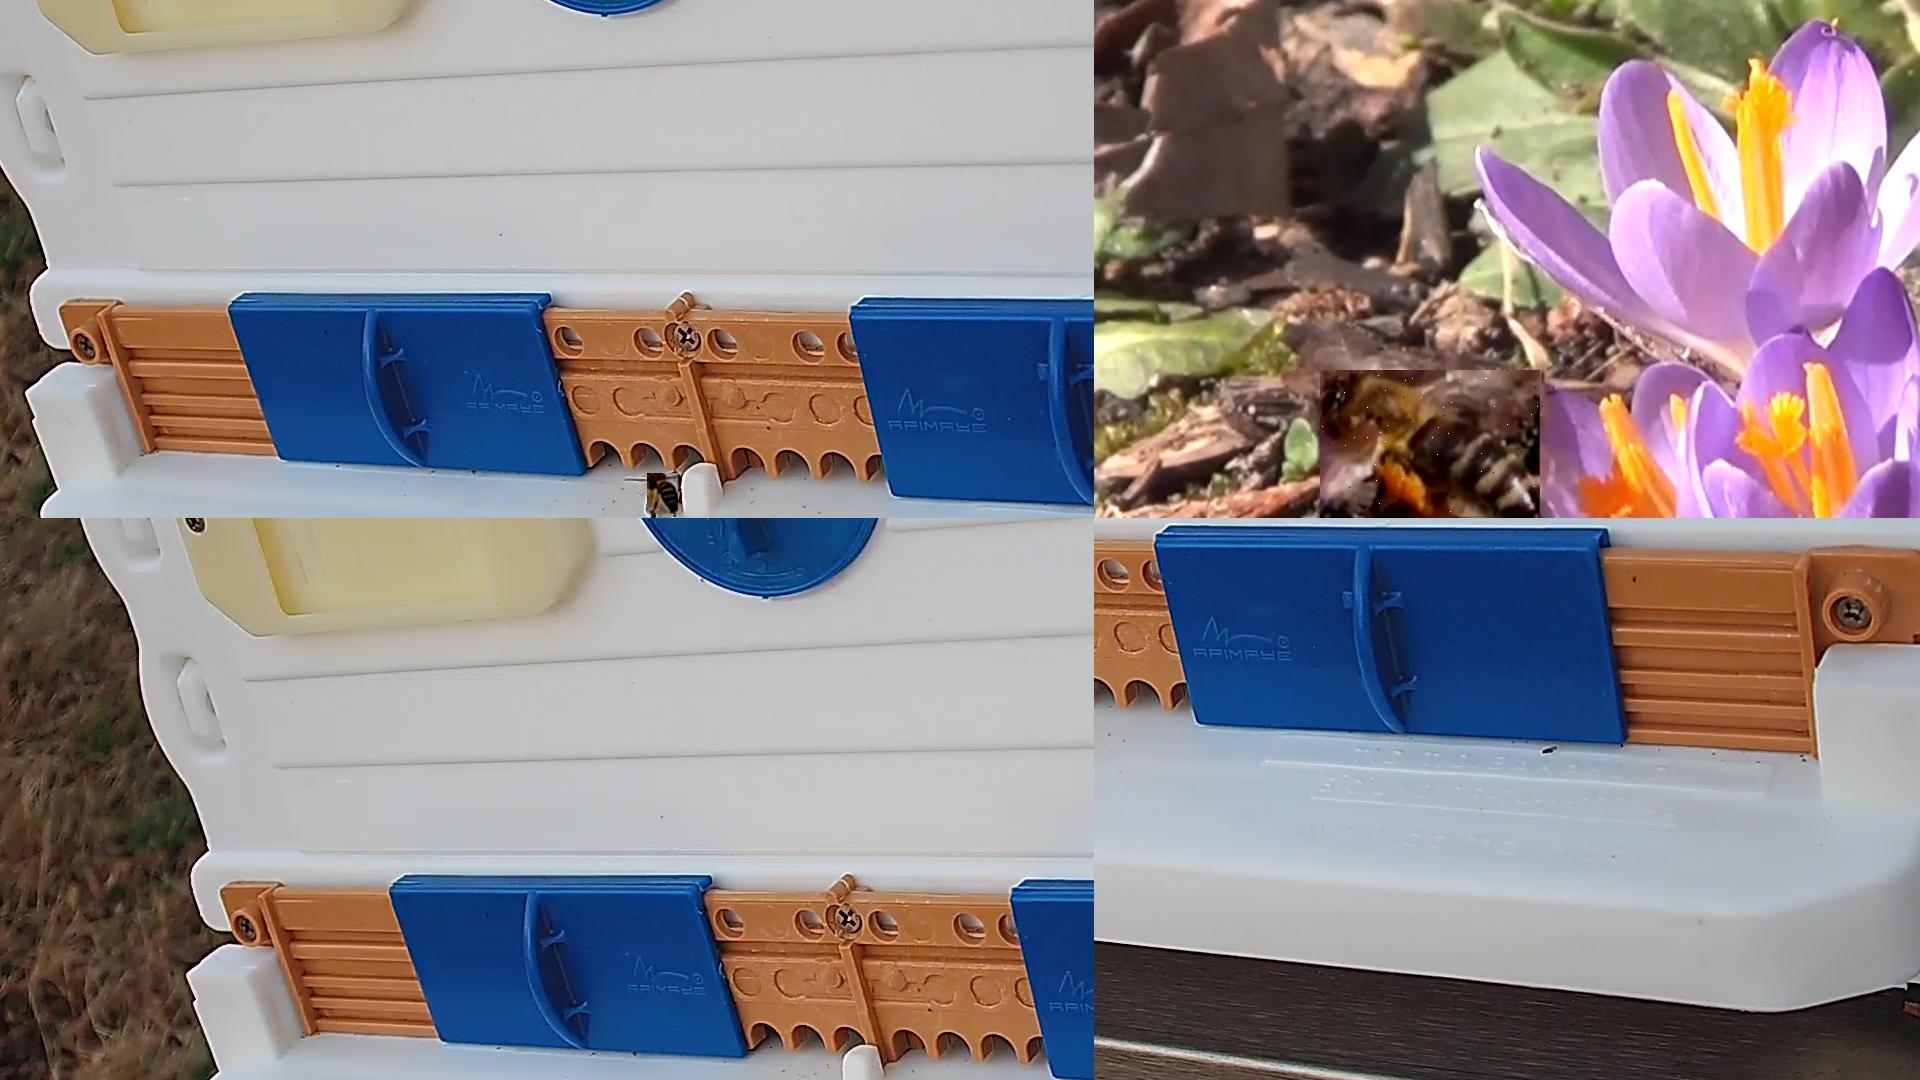pollenbee: (1320, 371, 1542, 517), (647, 473, 679, 518)
